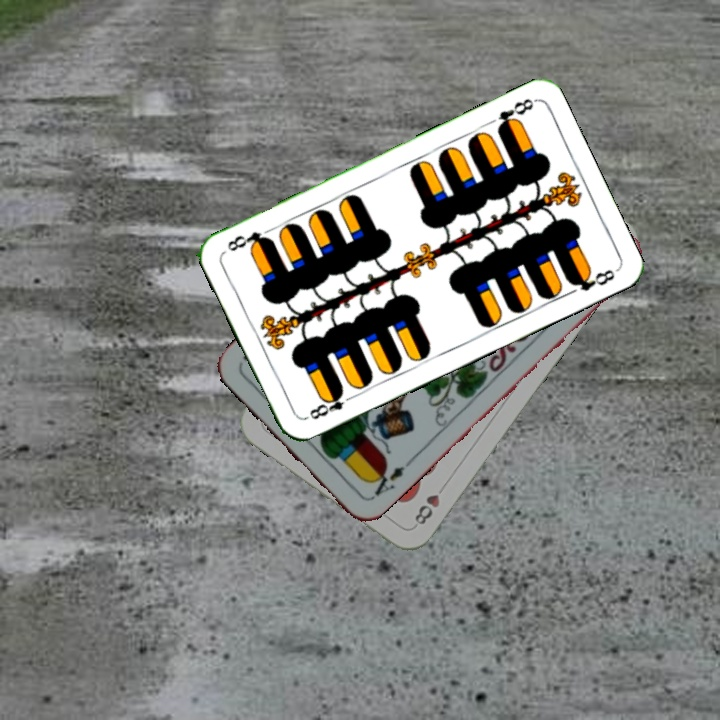E8: (302, 385, 358, 422), (493, 94, 538, 134)
EA: (366, 456, 414, 502)
H8: (410, 479, 450, 528)
